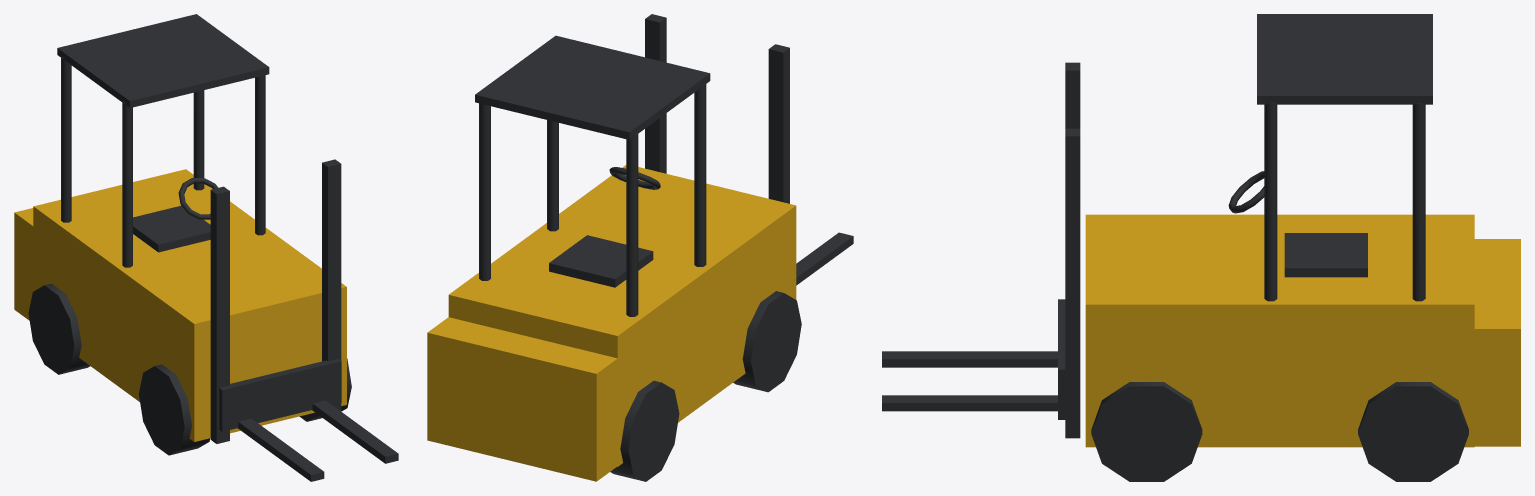
The model's file is forklift.glb.
3 renders of one model, left to right at view 1: azimuth 30°, elevation 25°; view 2: azimuth 150°, elevation 25°; view 3: azimuth 270°, elevation 25°, orthographic. The views are drawn at different scales.
Visible parts, largest first — view 1: Paint, Forklift, Mast_L, Mast_R; view 2: Forklift, Paint, Mast_L, Mast_R; view 3: Paint, Forklift, Mast_R, Mast_L.
Boxes of the visible parts, x1,y1,x2,y2 form: Paint: (33,169,346,441); Forklift: (14,14,398,481); Mast_L: (210,186,229,443); Mast_R: (322,159,341,411); Forklift: (427,35,853,481); Paint: (448,165,796,466); Mast_L: (768,44,789,203); Mast_R: (645,14,666,173); Paint: (1085,214,1474,447); Forklift: (882,14,1520,481); Mast_R: (1065,128,1080,438); Mast_L: (1065,62,1080,128).
Bounding box in the file's own units: 1.26 × 2.25 × 3.45.
